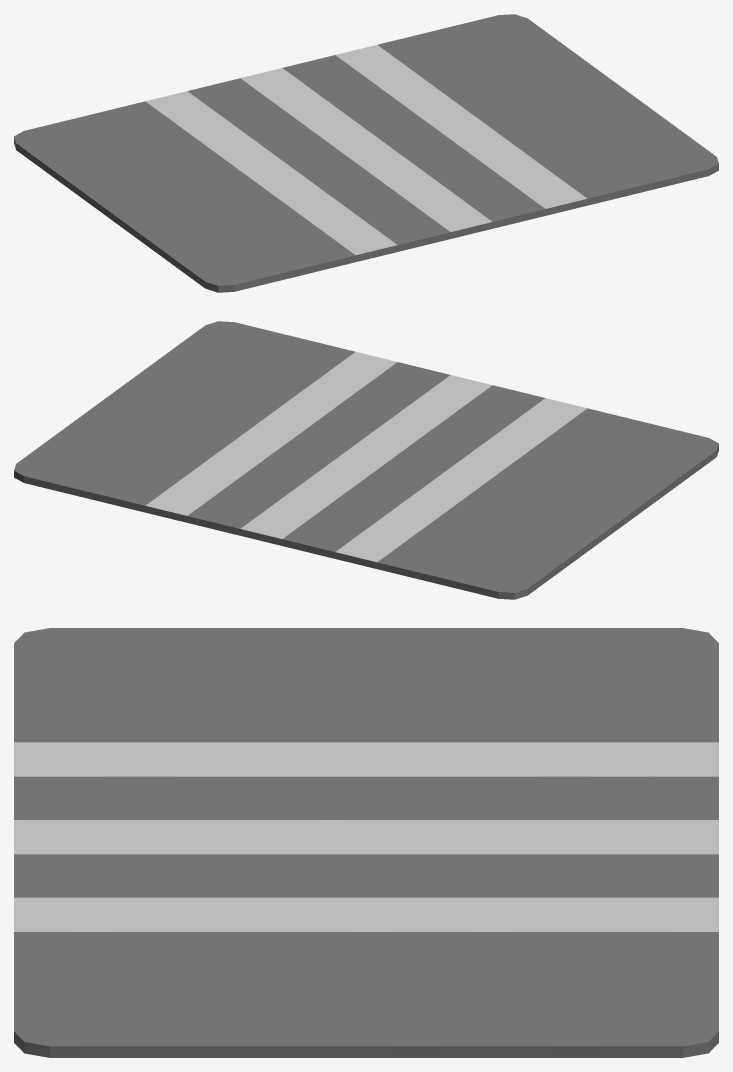
Rendered from Carpet_02_02.fbx.
3 renders of one model, top to bottom at view 1: azimuth 30°, elevation 25°; view 2: azimuth 150°, elevation 25°; view 3: azimuth 270°, elevation 25°, orthographic. The views are drawn at different scales.
Visible parts, largest first — view 1: Carpet_02_02; view 2: Carpet_02_02; view 3: Carpet_02_02.
Boxes of the visible parts, box(x1,y1,x2,y2) form: Carpet_02_02: box(14, 14, 718, 292); Carpet_02_02: box(14, 321, 718, 599); Carpet_02_02: box(14, 628, 718, 1057).
Bounding box in the file's own units: 1.56 × 0.0201 × 1.11.
